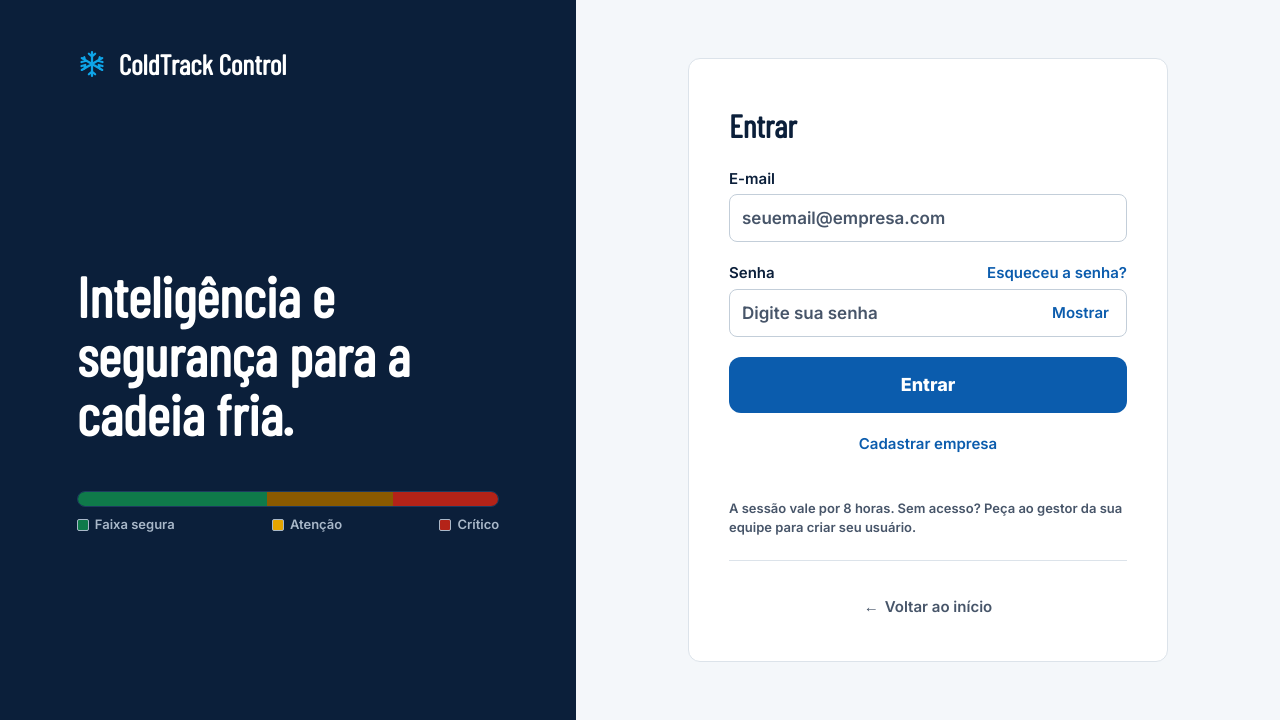
Scenario: Login › credenciais recusadas: mostra o erro da API e libera o botão
Type "ana@empresa.com" into the field labelled "E-mail" at [928, 218], box [729,194,1127,242]
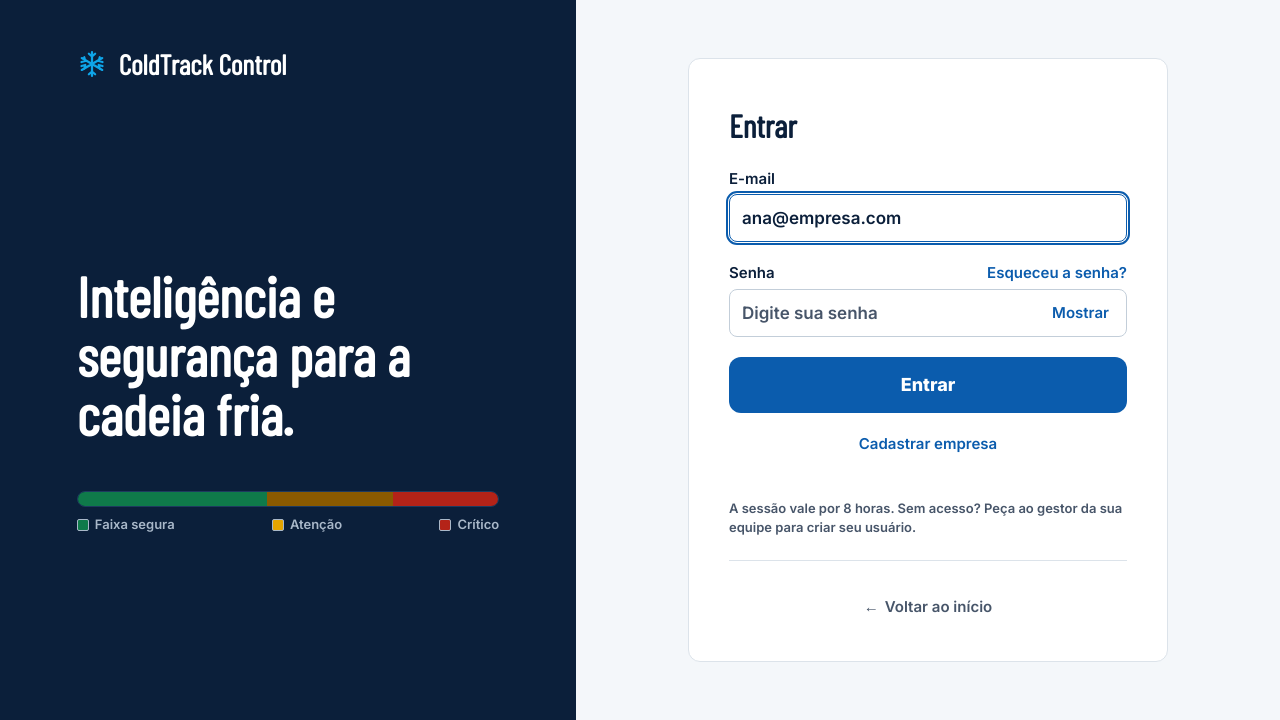
Type "errada123" into the password field labelled "Senha" at [928, 313], box [729,289,1127,337]
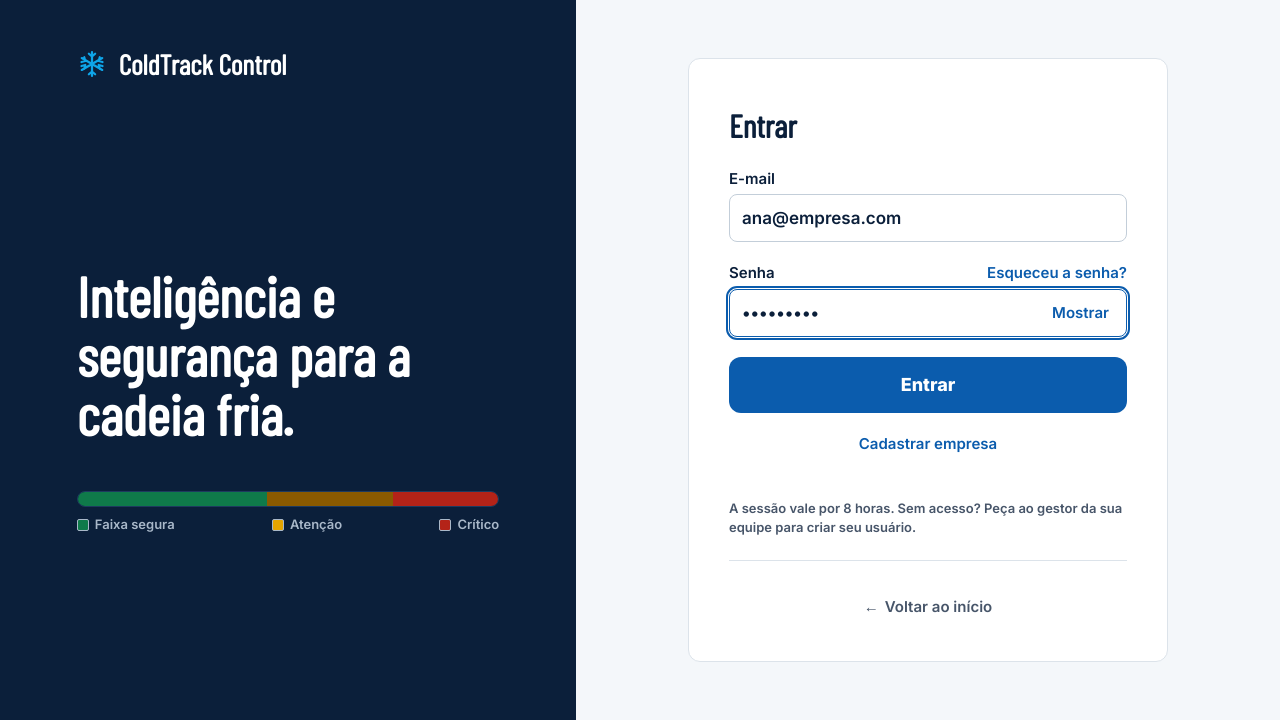
Click the button "Entrar" at [928, 385], box [729,357,1127,413]
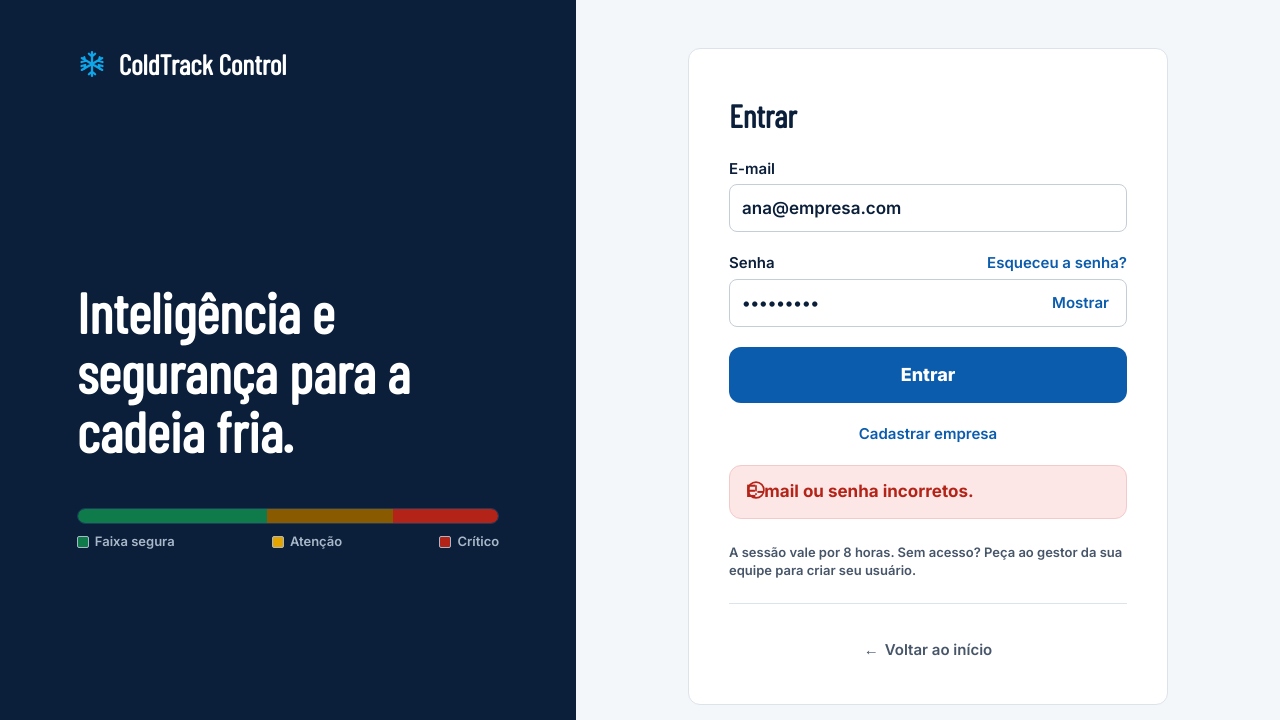
Expected: the button "Entrar" is enabled, [729,347,1127,403]
Expected: the text "E-mail ou senha incorretos." is shown, [729,465,1127,519]
